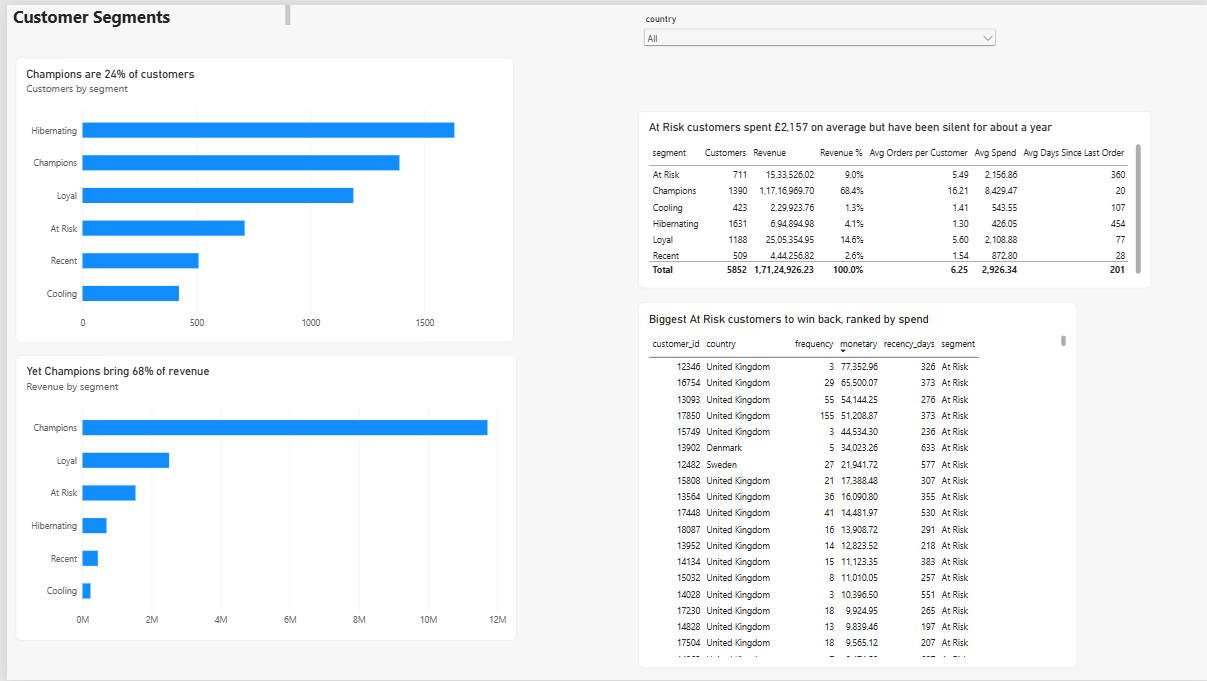

What the dashboard file says about the page in this screenshot:
{"tool":"powerbi","page":{"name":"Customer Segments","canvas":[1920,1080],"ordinal":1},"visuals":[{"type":"textbox","box":[10,0,443.3,41.7],"z":0},{"type":"slicer","fields":{"Values":["rfm_customers.country"]},"box":[1013.6,14.8,573.3,128.3],"z":1},{"type":"clusteredBarChart","title":"Champions are 24% of customers","fields":{"Category":["rfm_customers.segment"],"Y":["rfm_customers.Customers"]},"box":[13.3,83.3,796.7,456.7],"z":2},{"type":"barChart","title":"Yet Champions bring 68% of revenue","fields":{"Category":["rfm_customers.segment"],"Y":["rfm_customers.Revenue"]},"box":[13.3,560,801.7,456.7],"z":3},{"type":"tableEx","title":"At Risk customers spent £2,157 on average but have been silent for about a year","fields":{"Values":["rfm_customers.segment","rfm_customers.Customers","rfm_customers.Revenue","rfm_customers.Revenue %","rfm_customers.Avg Orders per Customer","rfm_customers.Avg Spend","rfm_customers.Avg Days Since Last Order"]},"box":[1010,170,821.7,283.3],"z":4},{"type":"tableEx","title":"Biggest At Risk customers to win back, ranked by spend","fields":{"Values":["rfm_customers.customer_id","rfm_customers.country","rfm_customers.frequency","rfm_customers.monetary","rfm_customers.recency_days","rfm_customers.segment"]},"box":[1010,476,702,584],"z":5}]}

Visuals, with their boxes in screenshot pixels (x1, y1, x2, y2), scaled from the page's 1920x1080 canvas onto the 1207x681 screenshot:
textbox: [left=6, top=0, right=285, bottom=26]
slicer - rfm_customers.country: [left=637, top=9, right=998, bottom=90]
"Champions are 24% of customers" clusteredBarChart: [left=8, top=53, right=509, bottom=340]
"Yet Champions bring 68% of revenue" barChart: [left=8, top=353, right=512, bottom=641]
"At Risk customers spent £2,157 on average but have been silent for about a year" tableEx: [left=635, top=107, right=1151, bottom=286]
"Biggest At Risk customers to win back, ranked by spend" tableEx: [left=635, top=300, right=1076, bottom=668]
